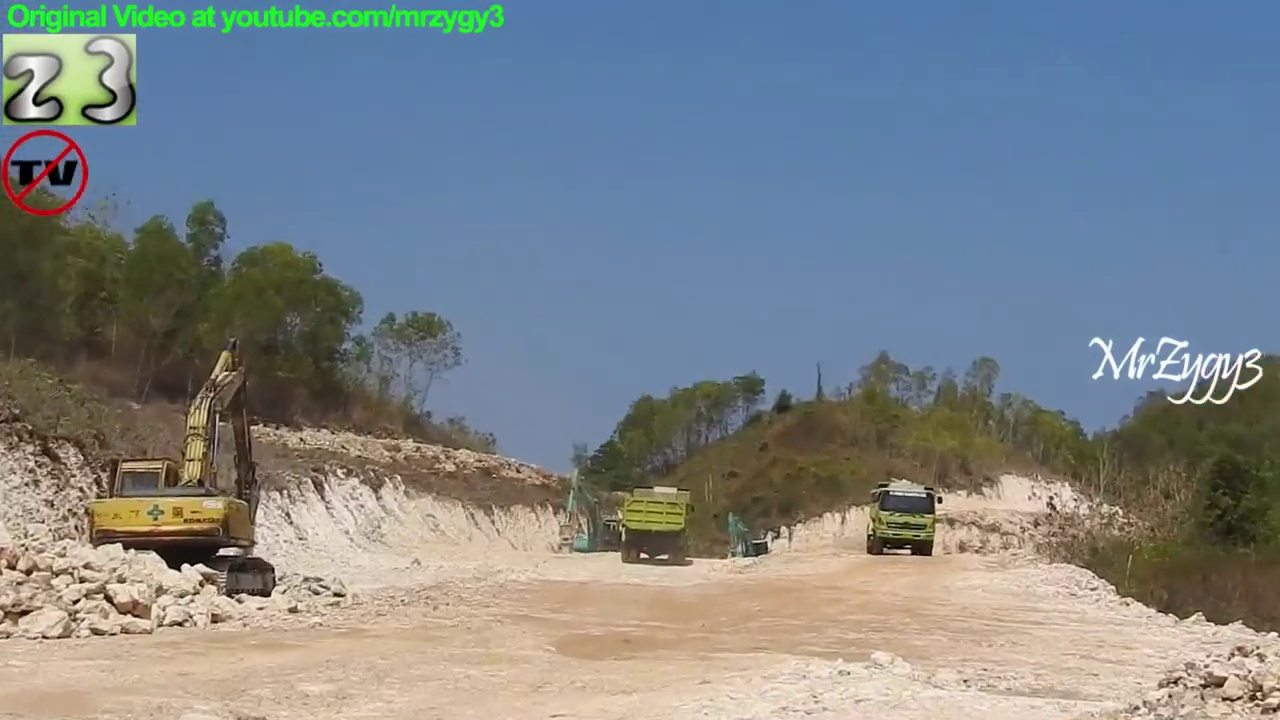excavator: (86, 330, 281, 603), (722, 506, 772, 565)
excavator breaker: (555, 464, 620, 557)
truck: (865, 475, 948, 561), (619, 483, 696, 567)
